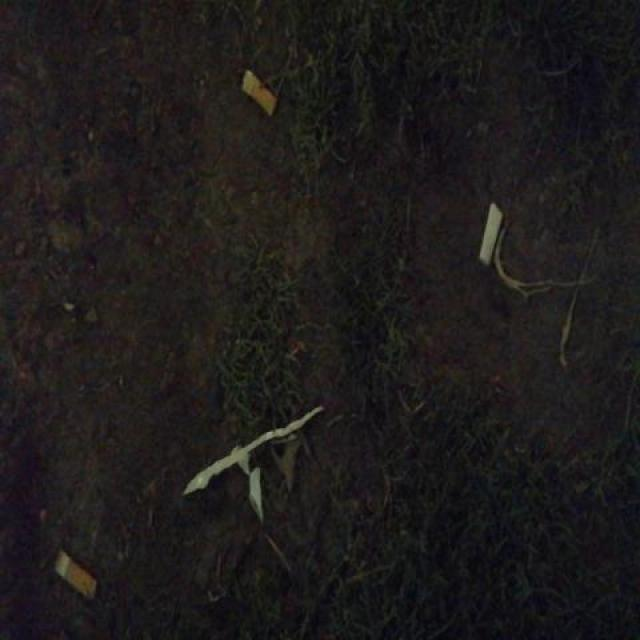non-organic waste: (48, 538, 100, 606), (236, 65, 280, 122), (476, 198, 508, 270)
